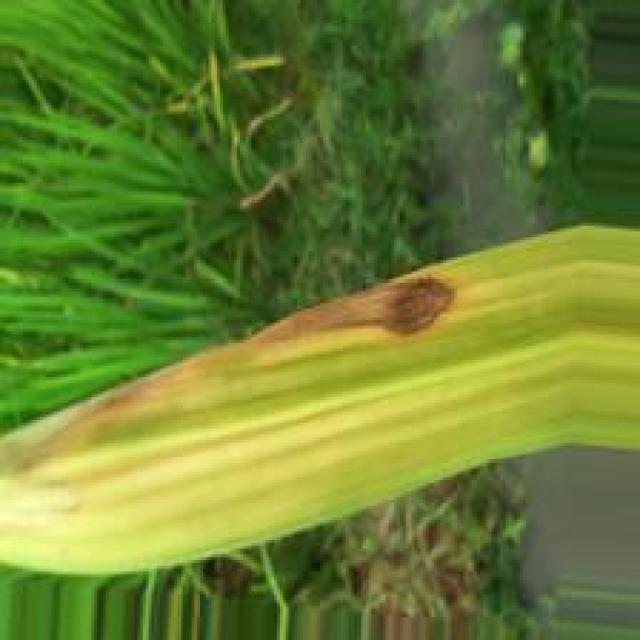Leaf_Scald: (5, 272, 467, 482)
